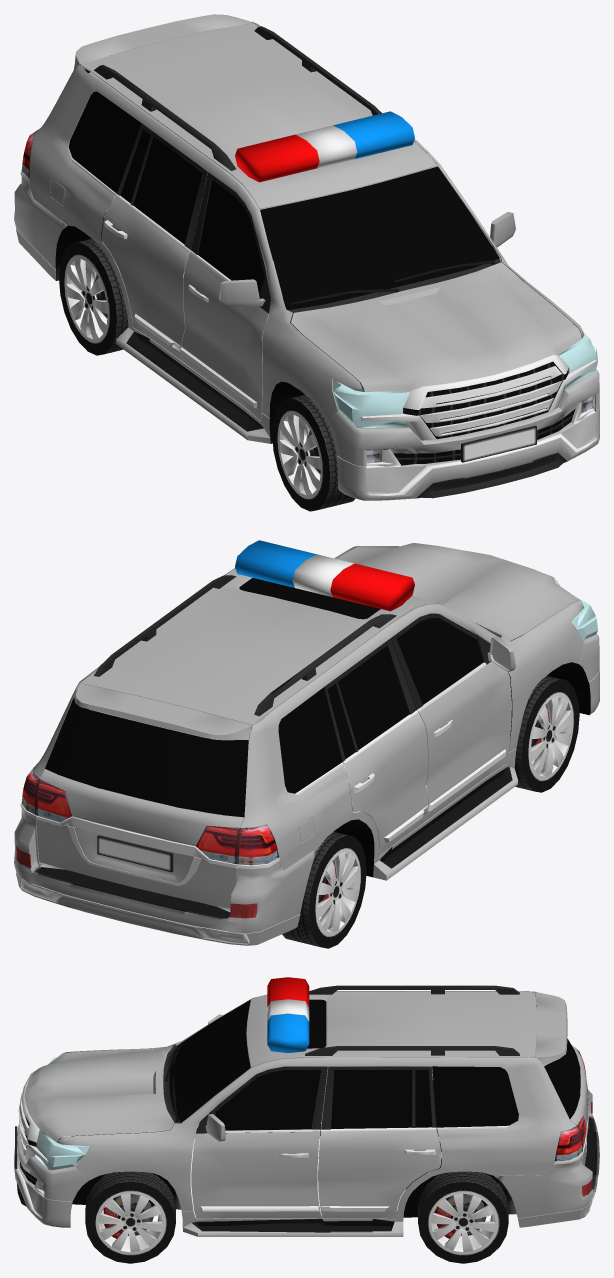
3 views of the same model, one above another, from view 1: azimuth 30°, elevation 25°; view 2: azimuth 150°, elevation 25°; view 3: azimuth 270°, elevation 25° (orthographic). The views are drawn at different scales.
Visible parts, largest first — view 1: lc_200_2018_glassEXTdoorBBL, land_cruizer_200_2018wheel_1, land_cruizer_200_2018wheel_003, slash_plastik, flash; view 2: lc_200_2018_glassEXTdoorBBL, land_cruizer_200_2018wheel_003, land_cruizer_200_2018wheel_1, slash_plastik, flash; view 3: lc_200_2018_glassEXTdoorBBL, land_cruizer_200_2018wheel_004, land_cruizer_200_2018wheel_005, slash_plastik, flash, Brake_006, Brake_005.
Boxes of the visible parts, x1=… form: lc_200_2018_glassEXTdoorBBL: x1=14, y1=14, x2=599, y2=500; land_cruizer_200_2018wheel_1: x1=272, y1=394, x2=355, y2=511; land_cruizer_200_2018wheel_003: x1=59, y1=238, x2=128, y2=355; slash_plastik: x1=235, y1=111, x2=414, y2=182; flash: x1=295, y1=125, x2=357, y2=168; lc_200_2018_glassEXTdoorBBL: x1=14, y1=543, x2=599, y2=945; land_cruizer_200_2018wheel_003: x1=282, y1=831, x2=366, y2=948; land_cruizer_200_2018wheel_1: x1=514, y1=676, x2=579, y2=792; slash_plastik: x1=235, y1=540, x2=414, y2=611; flash: x1=292, y1=554, x2=354, y2=596; lc_200_2018_glassEXTdoorBBL: x1=14, y1=985, x2=599, y2=1236; land_cruizer_200_2018wheel_004: x1=418, y1=1171, x2=508, y2=1263; land_cruizer_200_2018wheel_005: x1=85, y1=1171, x2=175, y2=1263; slash_plastik: x1=267, y1=977, x2=309, y2=1052; flash: x1=267, y1=999, x2=309, y2=1021; Brake_006: x1=103, y1=1194, x2=153, y2=1238; Brake_005: x1=436, y1=1193, x2=486, y2=1238.
Size of the model in its own units: 224 by 194 by 493.
Materials: 8 (6 with a texture image).
